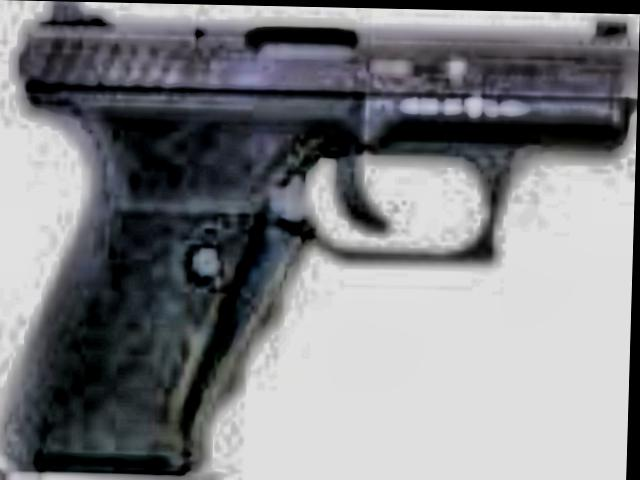pistol: (0, 0, 624, 480)
